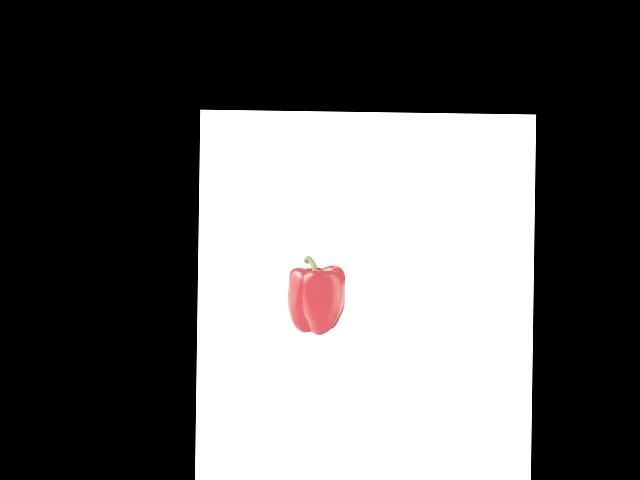bell_pepper: (284, 255, 349, 337)
